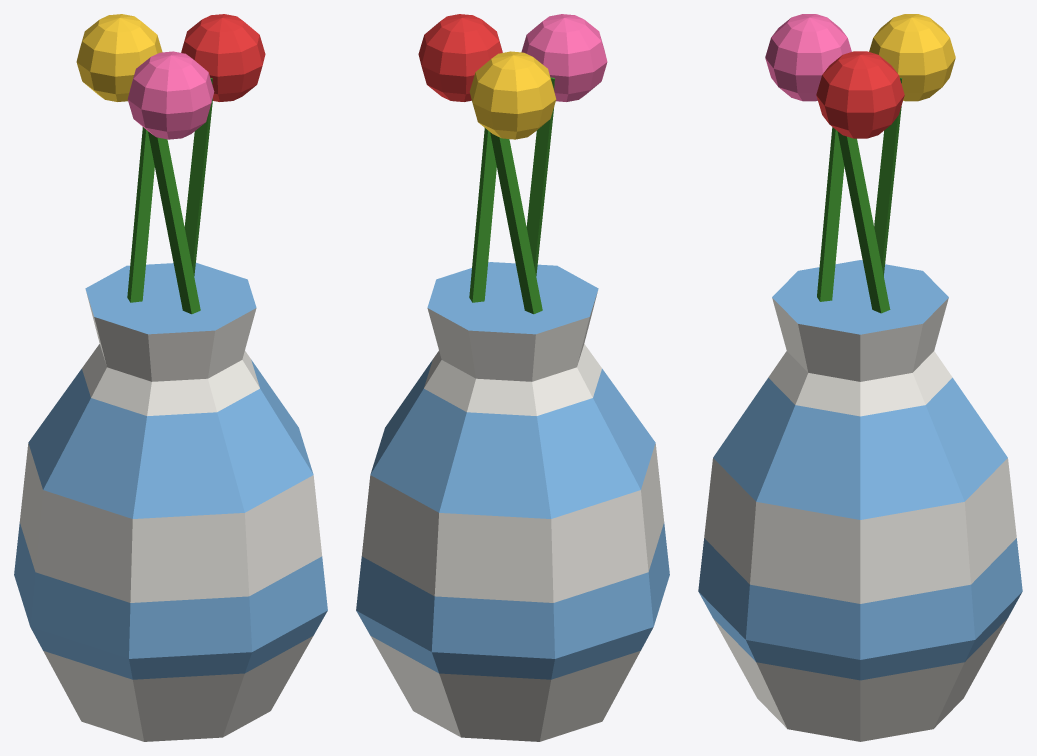
File: Vase.fbx
3 views of the same model, side by side, from view 1: azimuth 30°, elevation 25°; view 2: azimuth 150°, elevation 25°; view 3: azimuth 270°, elevation 25° (orthographic).
Parts seen in each view (by area): view 1: Vase; view 2: Vase; view 3: Vase.
Part boxes in pixels (box(x1,y1,x2,y2)): Vase: box(14, 14, 327, 741); Vase: box(356, 14, 669, 741); Vase: box(698, 14, 1022, 741).
Size of the model in its own units: 1.1 by 2.5 by 1.1.
Materials: 1 (1 with a texture image).
